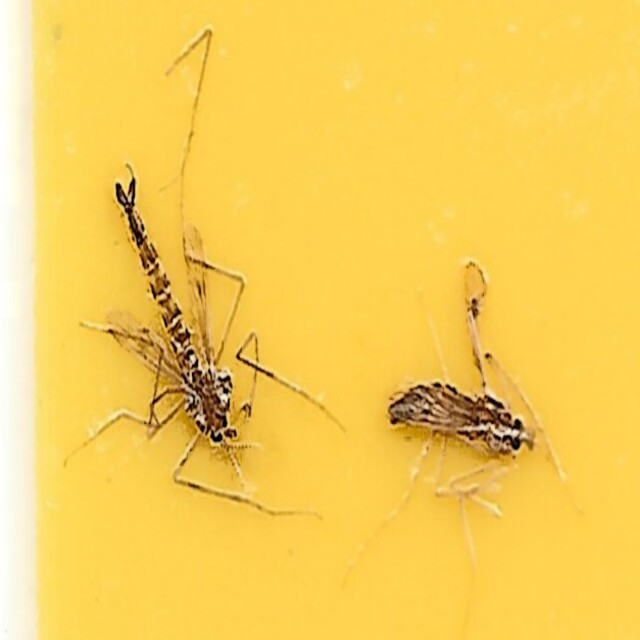Nematocera: (102, 161, 244, 466), (385, 260, 538, 479)
